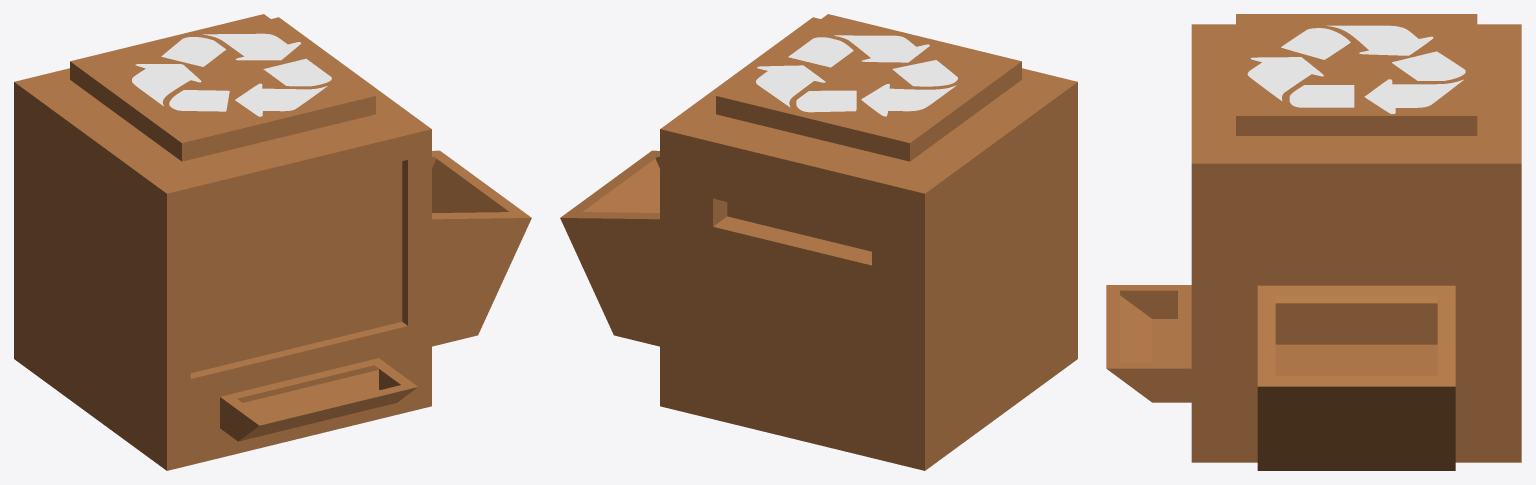
File: Recycler_Yellow.fbx
3 renders of one model, left to right at view 1: azimuth 30°, elevation 25°; view 2: azimuth 150°, elevation 25°; view 3: azimuth 270°, elevation 25°, orthographic. The views are drawn at different scales.
Parts seen in each view (by area): view 1: Cube, recycle-512; view 2: Cube, recycle-512; view 3: Cube, recycle-512.
Boxes of the visible parts, x1,y1,x2,y2 form: Cube: (14, 14, 531, 470); recycle-512: (132, 33, 331, 116); Cube: (560, 14, 1077, 470); recycle-512: (756, 35, 957, 116); Cube: (1106, 14, 1521, 470); recycle-512: (1247, 25, 1465, 113).
Bounding box in the file's own units: 417 × 307 × 351.
2 materials, 1 textured.
